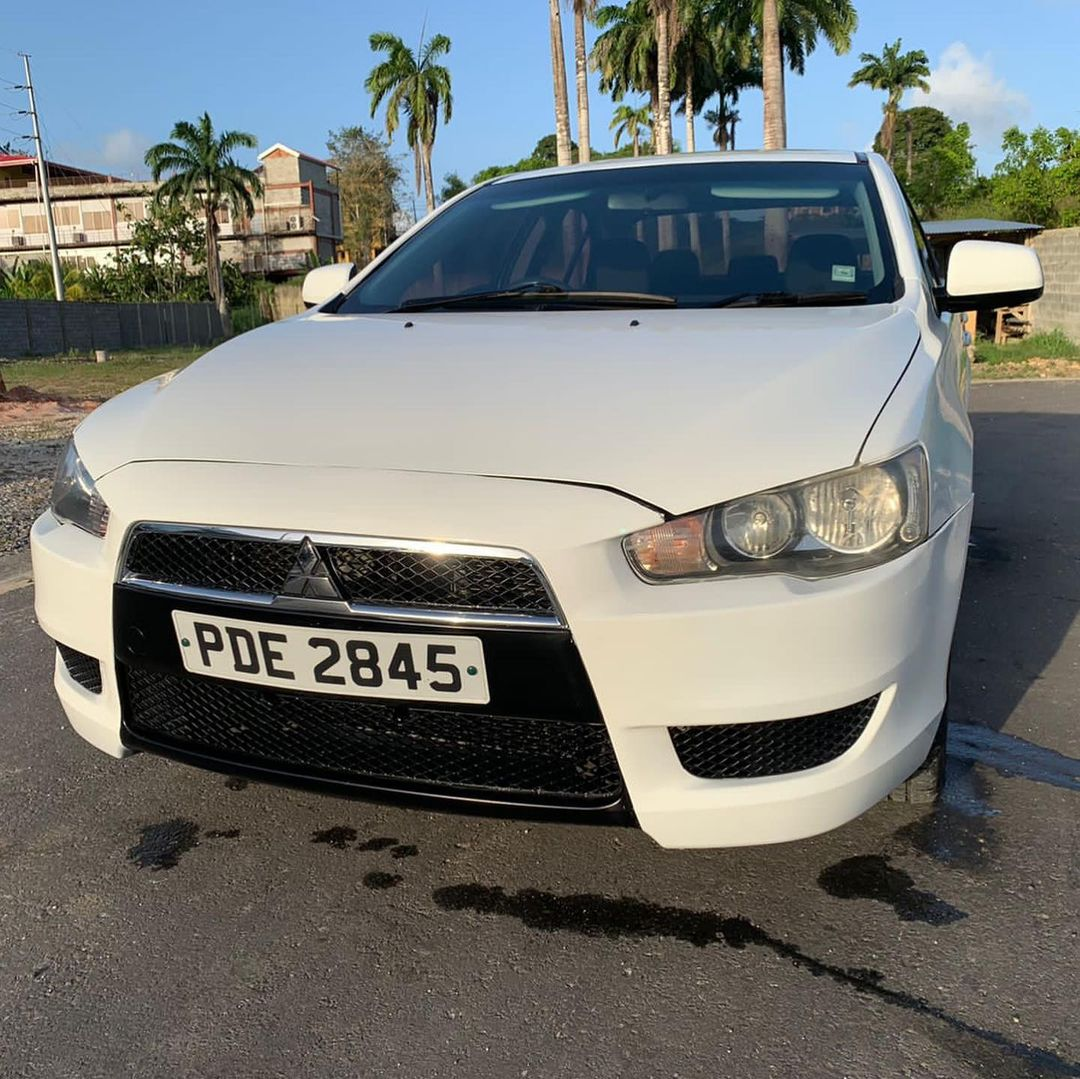License-Plate: (187, 616, 481, 673)
